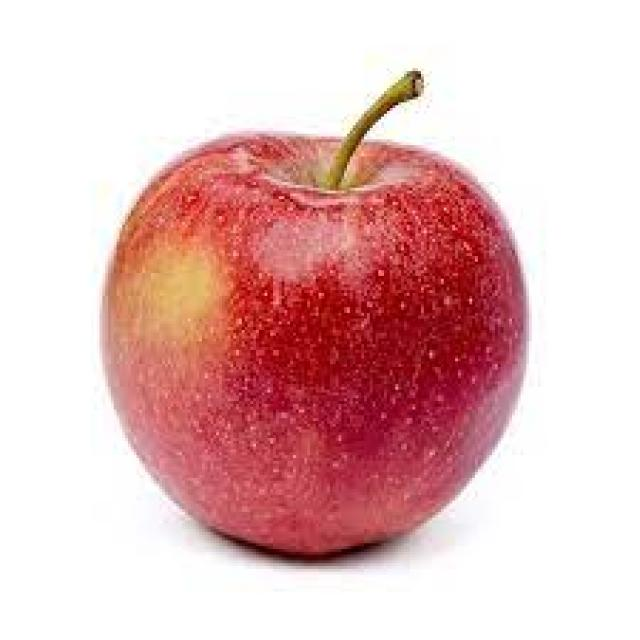apple: (94, 110, 543, 572)
